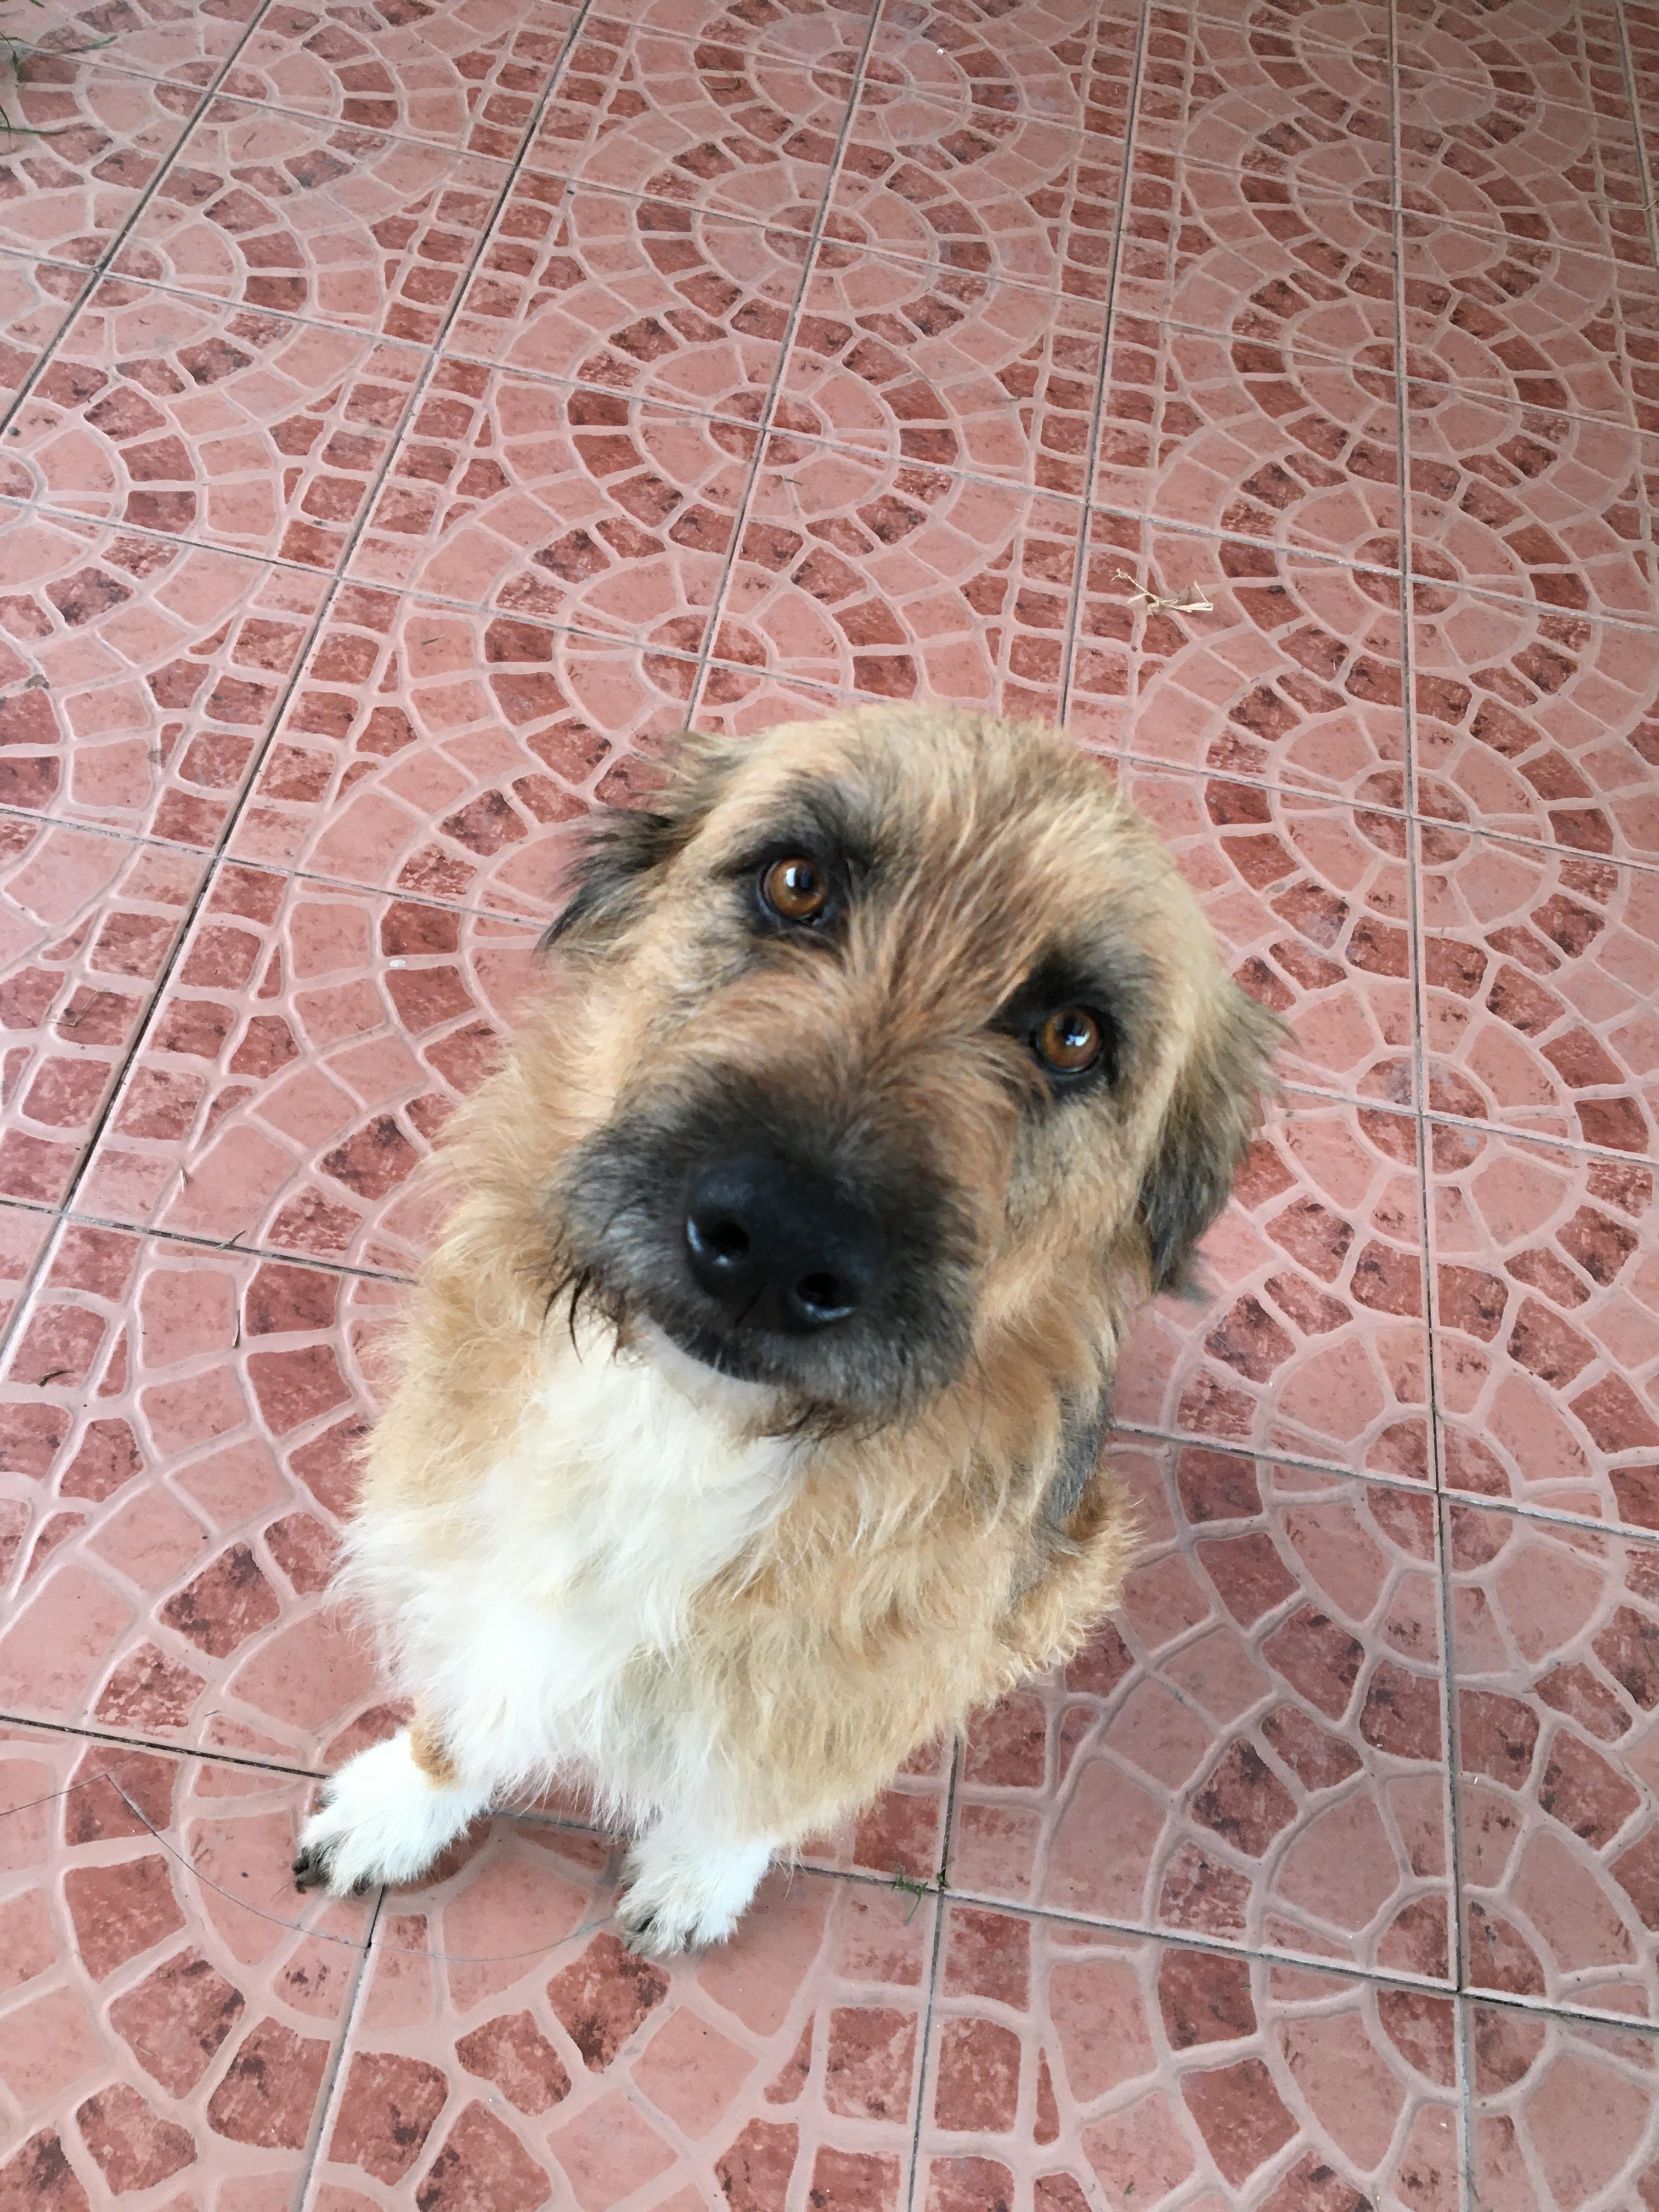locky: (291, 700, 1300, 1959)
